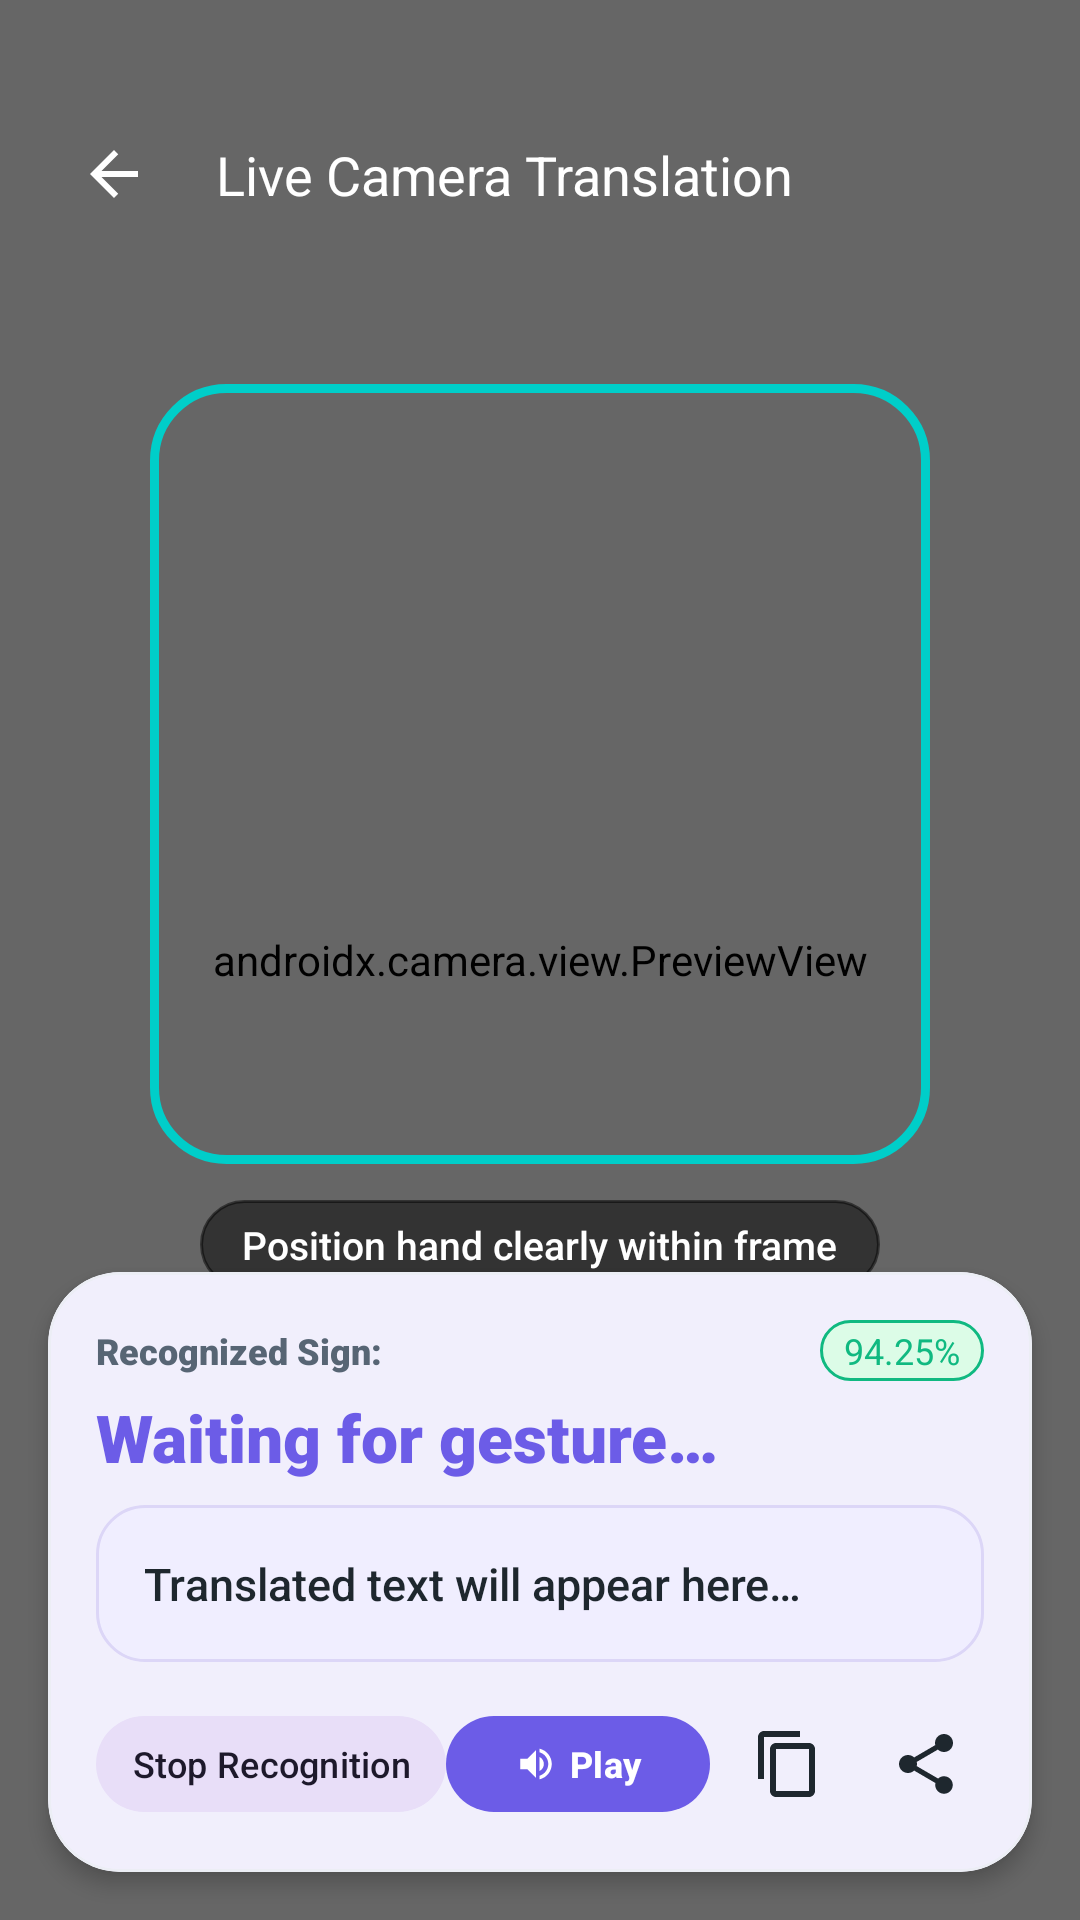

Point at icon controls on the screen. Image size 1080px×1920px, points as (x,y).
Back: (114,174)
Copy: (786,1764)
Share: (926,1764)
